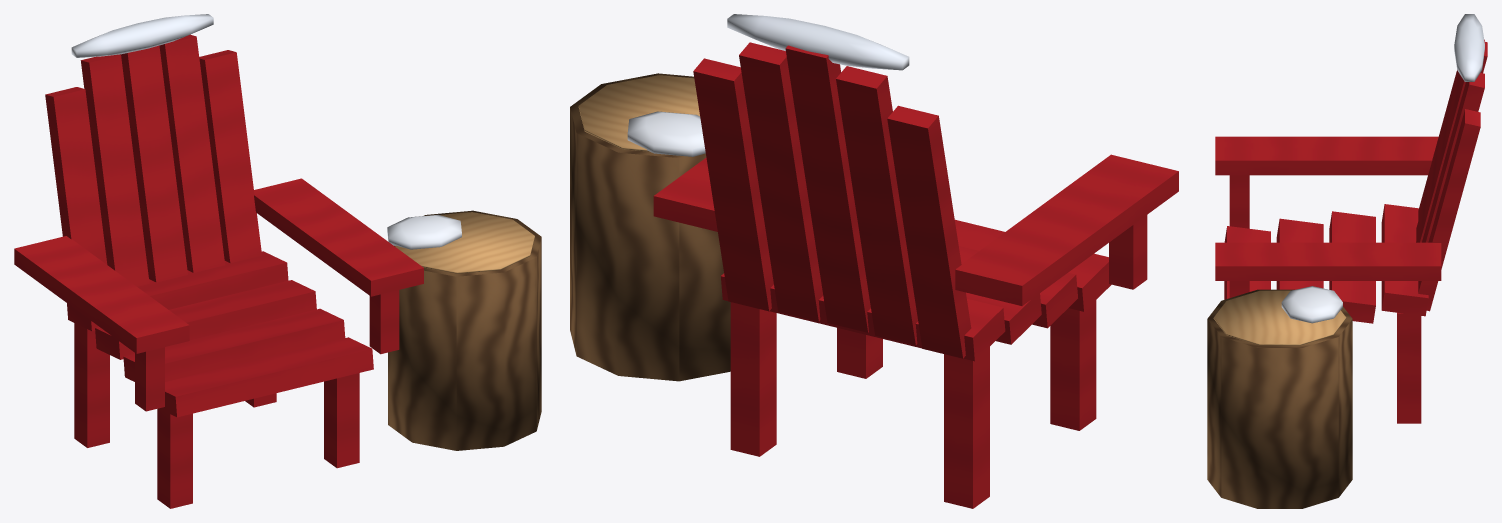
The model's file is fire-chair.glb.
3 renders of one model, left to right at view 1: azimuth 30°, elevation 25°; view 2: azimuth 150°, elevation 25°; view 3: azimuth 270°, elevation 25°, orthographic. The views are drawn at different scales.
Parts seen in each view (by area): view 1: Muskoka, Stump, StumpTop, MuskokaSnow, StumpSnow; view 2: Muskoka, Stump, StumpTop, MuskokaSnow, StumpSnow; view 3: Muskoka, Stump, StumpTop, StumpSnow, MuskokaSnow.
Boxes of the visible parts, x1=… form: Muskoka: x1=14, y1=34, x2=423, y2=508; Stump: x1=388, y1=210, x2=541, y2=450; StumpTop: x1=395, y1=212, x2=534, y2=273; MuskokaSnow: x1=71, y1=14, x2=213, y2=57; StumpSnow: x1=387, y1=214, x2=461, y2=249; Muskoka: x1=653, y1=42, x2=1178, y2=508; Stump: x1=570, y1=73, x2=730, y2=381; StumpTop: x1=578, y1=75, x2=699, y2=151; MuskokaSnow: x1=727, y1=14, x2=909, y2=70; StumpSnow: x1=627, y1=111, x2=705, y2=156; Muskoka: x1=1215, y1=39, x2=1487, y2=423; Stump: x1=1207, y1=289, x2=1352, y2=508; StumpTop: x1=1213, y1=290, x2=1346, y2=345; StumpSnow: x1=1281, y1=286, x2=1342, y2=323; MuskokaSnow: x1=1454, y1=14, x2=1484, y2=81.
Bounding box in the file's own units: 0.0566 × 0.0469 × 0.0347.
Materials: 4 (4 with a texture image).
